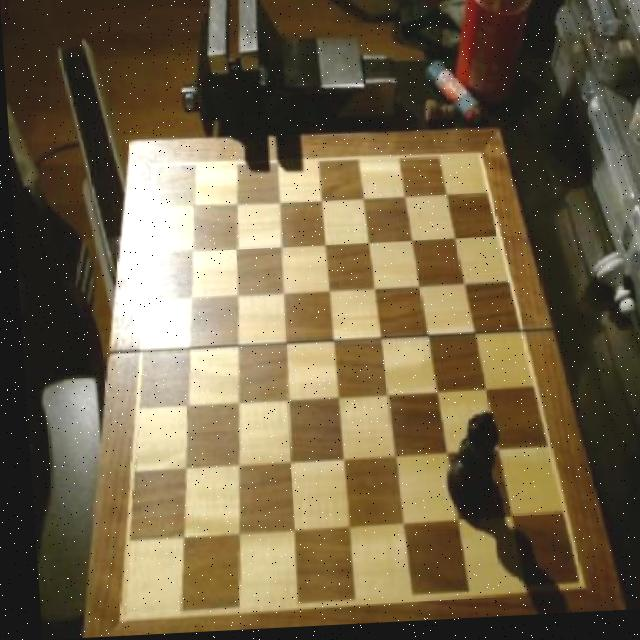black-bishop: (434, 413, 498, 523)
